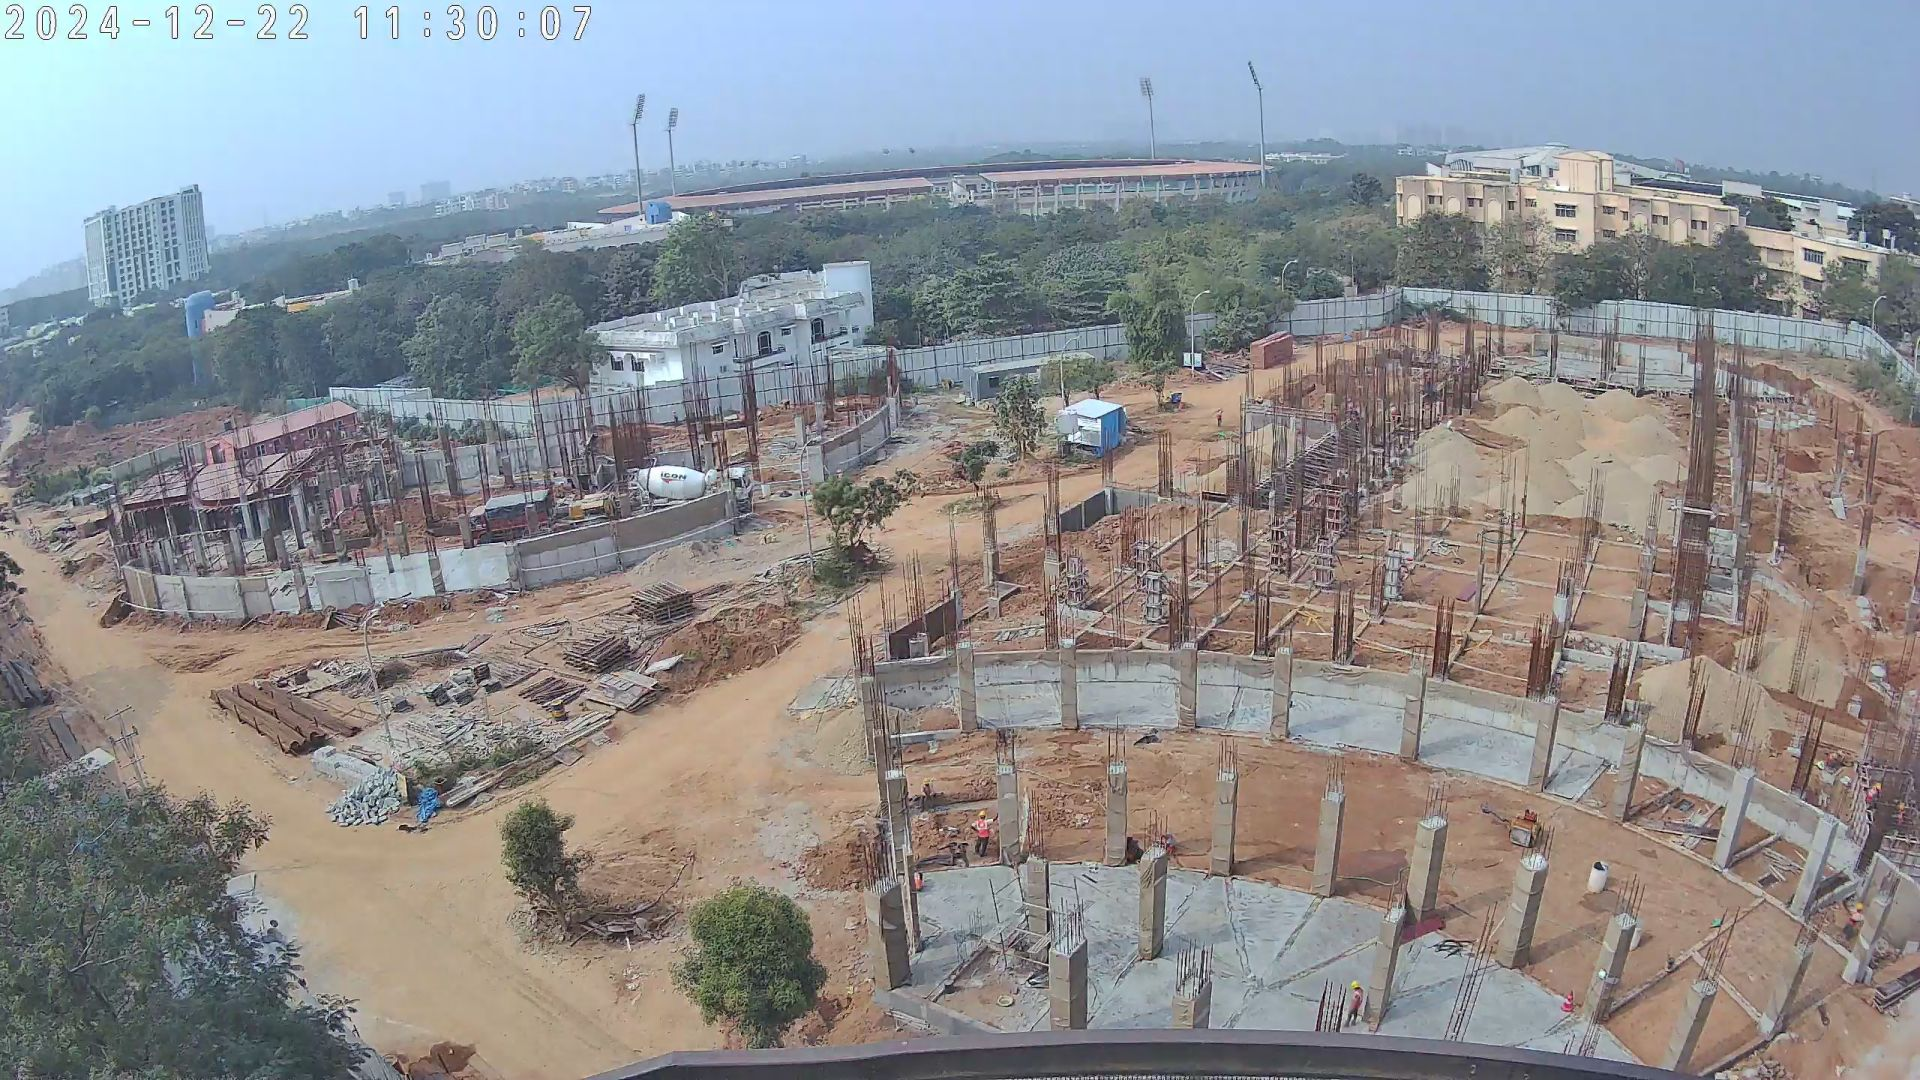truck: (614, 463, 757, 520), (461, 490, 553, 544)
worker: (972, 807, 997, 864), (1340, 979, 1368, 1025), (1841, 900, 1864, 948), (1823, 746, 1844, 794), (1161, 828, 1184, 871), (1867, 774, 1884, 830), (918, 776, 935, 812), (1894, 800, 1907, 836), (1211, 401, 1224, 436), (779, 398, 792, 413)
